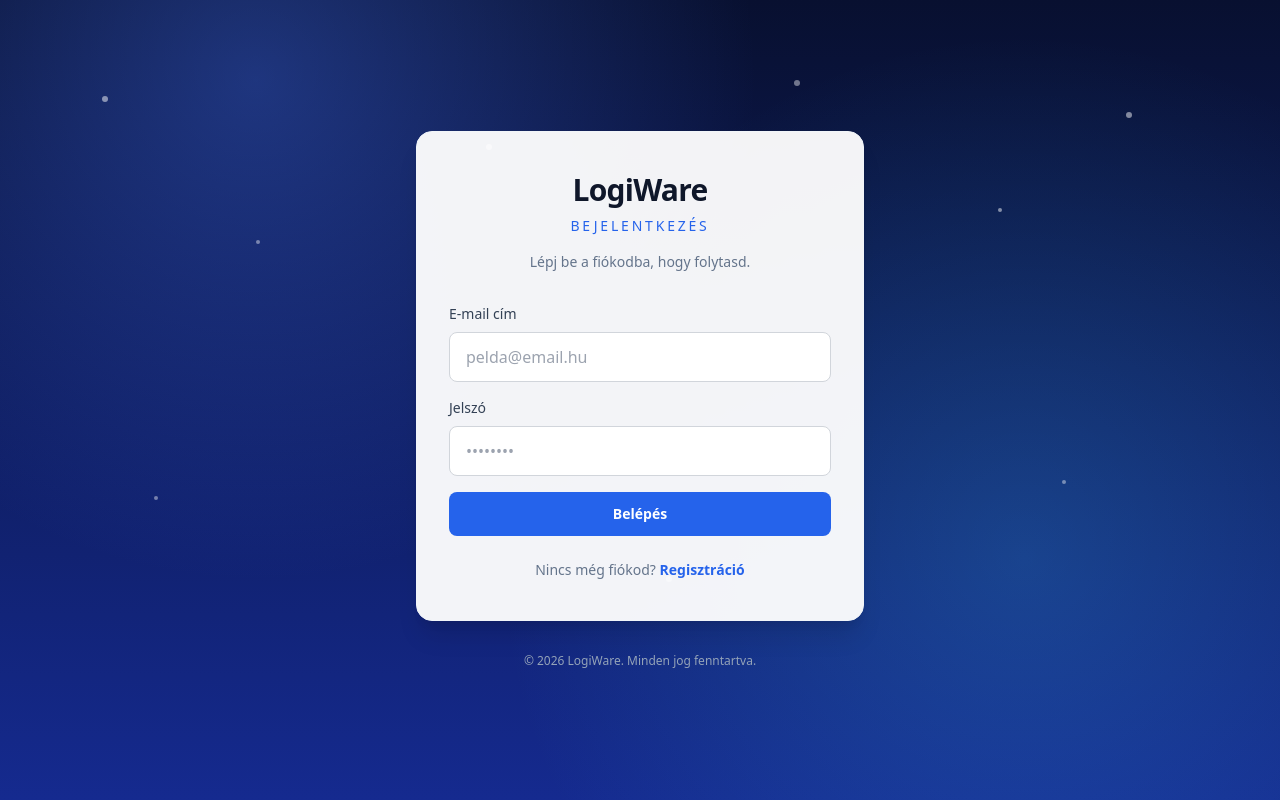
Test case: error disappears when user starts typing after error
This screenshot has width=1280, height=800.
Click the button "Belépés": x=640, y=514 [449,492,831,536]
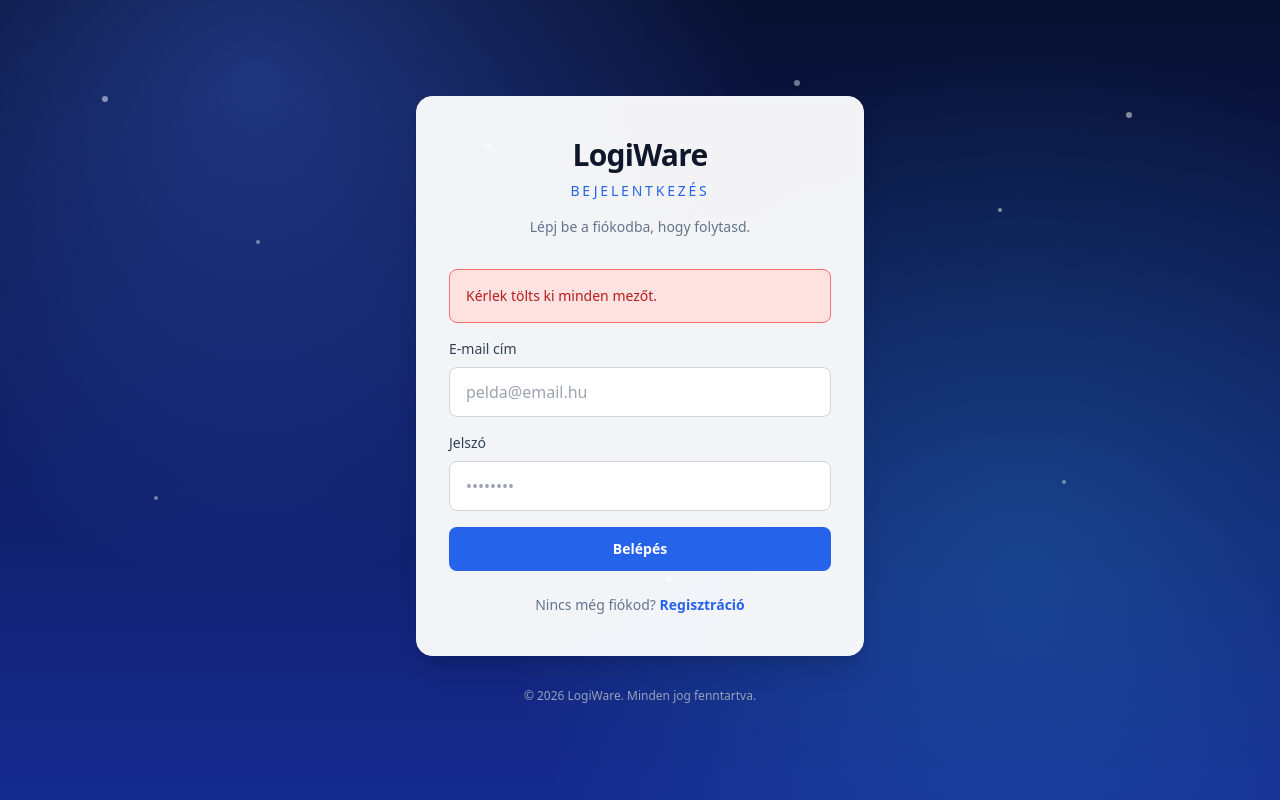
Expected: the text "Kérlek tölts ki minden mezőt." is shown, [449,269,831,323]
In the field labelled "E-mail cím": x=640, y=392 [449,367,831,417], type "a"
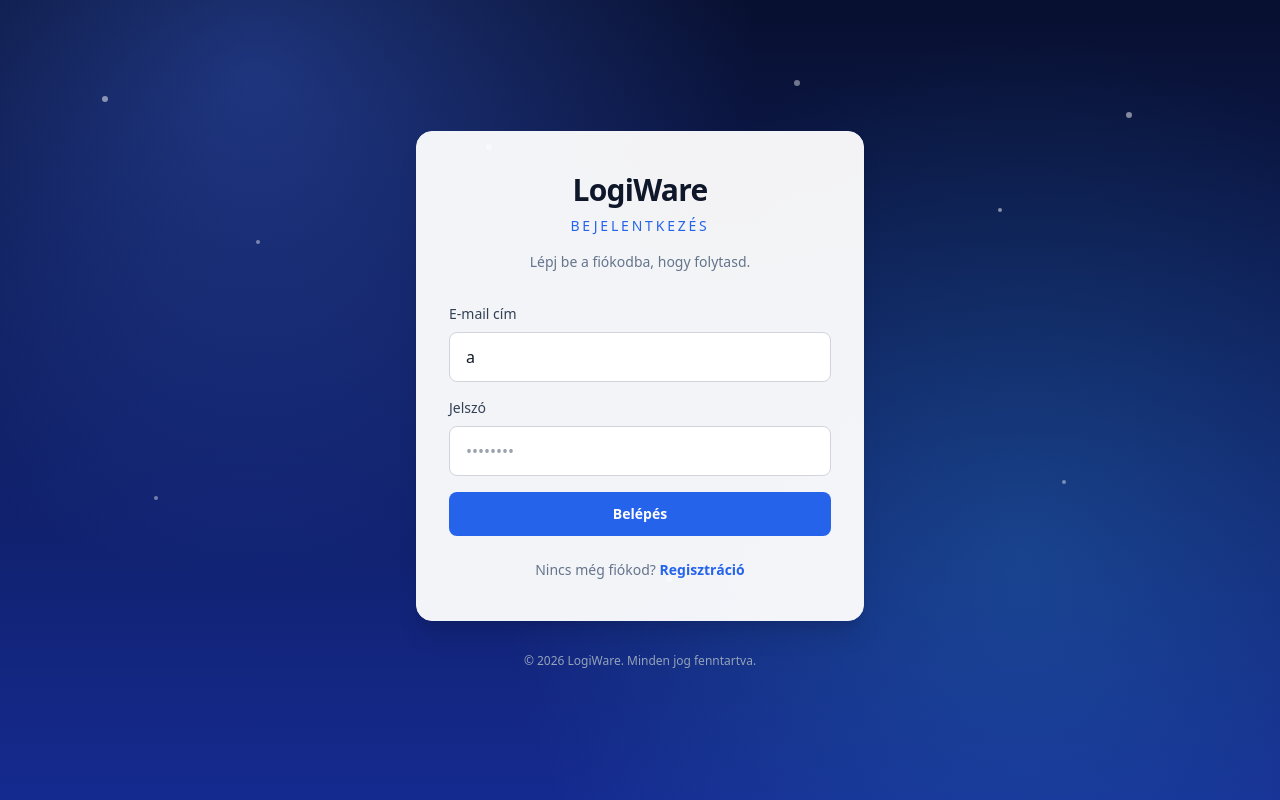
Expected: the text "Kérlek tölts ki minden mezőt." is gone
